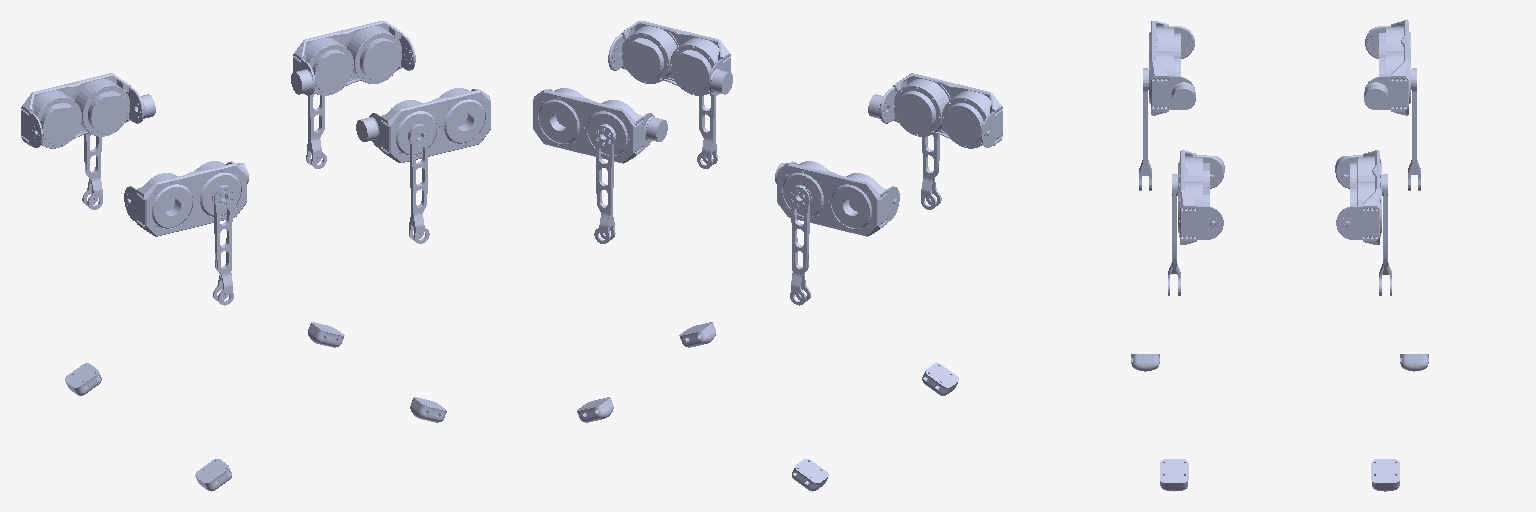
URDF robot description (olympus_description):
<?xml version="1.0" ?>
<robot
  name="olympus_description">


  <link
    name="Body">
    <inertial>
      <origin
        xyz="-0.0093903 0.00018696 0.011109"
        rpy="0 0 0" />
      <mass
        value="5.679" />
      <inertia
        ixx="0.05428615"
        ixy="-0.00110179"
        ixz="-0.0017034"
        iyy="0.15070598"
        iyz="0.00013585"
        izz="0.19574722" />
    </inertial>
    <visual>
      <origin
        xyz="0 0 0"
        rpy="0 0 0" />
      <geometry>
        <mesh
          filename="package://olympus_description/urdf/meshes/Body.dae" />
      </geometry>
      <material
        name="">
        <color
          rgba="0.79216 0.81961 0.93333 1" />
      </material>
    </visual>
    <collision>
      <origin
        xyz="0 0 0"
        rpy="0 0 0" />
      <geometry>
        <mesh
          filename="package://olympus_description/urdf/meshes/Body.dae" />
      </geometry>
    </collision>
  </link>
  



  
  

  
  <link
    name="FrontLeft_motorHousing">
    <inertial>
      <origin
        xyz="0.092829 0.02913 0.00023828"
        rpy="0 0 0" />
      <mass
        value="1.437" />
      <inertia
        ixx="0.00232895"
        ixy="0.00418147"
        ixz="3.194E-05"
        iyy="0.01861991"
        iyz="4.4E-06"
        izz="0.01948836" />
    </inertial>
    <visual>
      <origin
        xyz="0 0 0"
        rpy="0 0 0" />
      <geometry>
        <mesh
          filename="package://olympus_description/urdf/meshes/FrontLeft_motorHousing.dae" />
      </geometry>
      <material
        name="">
        <color
          rgba="0.79216 0.81961 0.93333 1" />
      </material>
    </visual>
    <collision>
      <origin
        xyz="0 0 0"
        rpy="0 0 0" />
      <geometry>
        <mesh
          filename="package://olympus_description/urdf/meshes/FrontLeft_motorHousing.dae" />
      </geometry>
    </collision>
  </link>
  <joint
    name="FrontLeft_motorHousing_hipAduction_motor"
    type="revolute">
    <origin
      xyz="0.143300000000002 0.104999999999997 0"
      rpy="0 0 0" />
    <parent
      link="Body" />
    <child
      link="FrontLeft_motorHousing" />
    <axis
      xyz="-1 0 0" />
    <limit
      lower="-1.57"
      upper="1.57"
      effort="0"
      velocity="0" />
  </joint>
  <link
    name="FrontLeft_hip_inner">
    <inertial>
      <origin
        xyz="-0.00087111 -0.0026375 -0.059532"
        rpy="0 0 0" />
      <mass
        value="0.081" />
      <inertia
        ixx="0.00080743"
        ixy="-7E-08"
        ixz="1.1E-05"
        iyy="0.00081318"
        iyz="-4.71E-06"
        izz="3.7587E-06" />
    </inertial>
    <visual>
      <origin
        xyz="0 0 0"
        rpy="0 0 0" />
      <geometry>
        <mesh
          filename="package://olympus_description/urdf/meshes/FrontLeft_hip_inner.dae" />
      </geometry>
      <material
        name="">
        <color
          rgba="0.79216 0.81961 0.93333 1" />
      </material>
    </visual>
    <collision>
      <origin
        xyz="0 0 0"
        rpy="0 0 0" />
      <geometry>
        <mesh
          filename="package://olympus_description/urdf/meshes/FrontLeft_hip_inner.dae" />
      </geometry>
    </collision>
  </link>
  <joint
    name="FrontLeft_hip_inner_motor"
    type="revolute">
    <origin
      xyz="0.051699999999999 0.0594499999999993 -1.1338370204463E-05"
      rpy="0 0 0" />
    <parent
      link="FrontLeft_motorHousing" />
    <child
      link="FrontLeft_hip_inner" />
    <axis
      xyz="0 1 0" />
    <limit
      lower="-1.57"
      upper="1.57"
      effort="0"
      velocity="0" />
  </joint>
  <link
    name="FrontLeft_shank_inner">
    <inertial>
      <origin
        xyz="-0.018257 -5.7848E-07 -0.18193"
        rpy="0 0 0" />
      <mass
        value="0.1993" />
      <inertia
        ixx="0.00799515"
        ixy="-1.3E-07"
        ixz="0.00072855"
        iyy="0.00807089"
        iyz="-1.55E-06"
        izz="9.64E-05" />
    </inertial>
    <visual>
      <origin
        xyz="0 0 0"
        rpy="0 0 0" />
      <geometry>
        <mesh
          filename="package://olympus_description/urdf/meshes/FrontLeft_shank_inner.dae" />
      </geometry>
      <material
        name="">
        <color
          rgba="0.79216 0.81961 0.93333 1" />
      </material>
    </visual>
    <collision>
      <origin
        xyz="0 0 0"
        rpy="0 0 0" />
      <geometry>
        <mesh
          filename="package://olympus_description/urdf/meshes/FrontLeft_shank_inner.dae" />
      </geometry>
    </collision>
  </link>
  <joint
    name="FrontLeft_shank_inner_knee"
    type="revolute">
    <origin
      xyz="0 0.000750000000007855 -0.175000000000014"
      rpy="0 -0.156107447167547 0" />
    <parent
      link="FrontLeft_hip_inner" />
    <child
      link="FrontLeft_shank_inner" />
    <axis
      xyz="0 1 0" />
    <limit
      lower="-1.57"
      upper="1.57"
      effort="0"
      velocity="0" />
  </joint>
  <link
    name="FrontLeft_paw">
    <inertial>
      <origin
        xyz="-0.00016141 -2.5484E-07 0.0013973"
        rpy="0 0 0" />
      <mass
        value="0.02" />
      <inertia
        ixx="3.73E-06"
        ixy="-2.6396E-10"
        ixz="-2E-08"
        iyy="4.78E-06"
        iyz="-7.8092E-11"
        izz="6.37E-06" />
    </inertial>
    <visual>
      <origin
        xyz="0 0 0"
        rpy="0 0 0" />
      <geometry>
        <mesh
          filename="package://olympus_description/urdf/meshes/FrontLeft_paw.dae" />
      </geometry>
      <material
        name="">
        <color
          rgba="0.79216 0.81961 0.93333 1" />
      </material>
    </visual>
    <collision>
      <origin
        xyz="0 0 0"
        rpy="0 0 0" />
      <geometry>
        <mesh
          filename="package://olympus_description/urdf/meshes/FrontLeft_paw.dae" />
      </geometry>
    </collision>
  </link>
  <joint
    name="FrontLeft_paw_joint"
    type="fixed">
    <origin
      xyz="-0.034316172849209 0 -0.318287120023731"
      rpy="0 -0.587745839939292 3.14159265358979" />
    <parent
      link="FrontLeft_shank_inner" />
    <child
      link="FrontLeft_paw" />
    <axis
      xyz="0 0 0" />
  </joint>

  <link
    name="FrontRight_motorHousing">
    <inertial>
      <origin
        xyz="0.092829 -0.02913 -0.00023828"
        rpy="0 0 0" />
      <mass
        value="1.4374" />
      <inertia
        ixx="0.00232895"
        ixy="-0.00418147"
        ixz="-3.194E-05"
        iyy="0.01861991"
        iyz="4.4E-06"
        izz="0.01948836" />
    </inertial>
    <visual>
      <origin
        xyz="0 0 0"
        rpy="0 0 0" />
      <geometry>
        <mesh
          filename="package://olympus_description/urdf/meshes/FrontRight_motorHousing.dae" />
      </geometry>
      <material
        name="">
        <color
          rgba="0.79216 0.81961 0.93333 1" />
      </material>
    </visual>
    <collision>
      <origin
        xyz="0 0 0"
        rpy="0 0 0" />
      <geometry>
        <mesh
          filename="package://olympus_description/urdf/meshes/FrontRight_motorHousing.dae" />
      </geometry>
    </collision>
  </link>
  <joint
    name="FrontRight_motorHousing_hipAduction_motor"
    type="revolute">
    <origin
      xyz="0.143300000000001 -0.104999999999999 0"
      rpy="0 0 0" />
    <parent
      link="Body" />
    <child
      link="FrontRight_motorHousing" />
    <axis
      xyz="-1 0 0" />
    <limit
      lower="-1.57"
      upper="1.57"
      effort="0"
      velocity="0" />
  </joint>
  <link
    name="FrontRight_hip_inner">
    <inertial>
      <origin
        xyz="-0.00087097 0.0026333 -0.059284"
        rpy="0 0 0" />
      <mass
        value="0.081" />
      <inertia
        ixx="0.00080451"
        ixy="7E-08"
        ixz="1.098E-05"
        iyy="0.00081035"
        iyz="4.68E-06"
        izz="8.51E-06" />
    </inertial>
    <visual>
      <origin
        xyz="0 0 0"
        rpy="0 0 0" />
      <geometry>
        <mesh
          filename="package://olympus_description/urdf/meshes/FrontRight_hip_inner.dae" />
      </geometry>
      <material
        name="">
        <color
          rgba="0.79216 0.81961 0.93333 1" />
      </material>
    </visual>
    <collision>
      <origin
        xyz="0 0 0"
        rpy="0 0 0" />
      <geometry>
        <mesh
          filename="package://olympus_description/urdf/meshes/FrontRight_hip_inner.dae" />
      </geometry>
    </collision>
  </link>
  <joint
    name="FrontRight_hip_inner_motor"
    type="revolute">
    <origin
      xyz="0.0517000000000003 -0.0594500000000019 1.13383701956029E-05"
      rpy="0 0 0" />
    <parent
      link="FrontRight_motorHousing" />
    <child
      link="FrontRight_hip_inner" />
    <axis
      xyz="0 1 0" />
    <limit
      lower="-1.57"
      upper="1.57"
      effort="0"
      velocity="0" />
  </joint>
  <link
    name="FrontRight_shank_inner">
    <inertial>
      <origin
        xyz="-0.018257 -5.8199E-07 -0.18193"
        rpy="0 0 0" />
      <mass
        value="0.1992" />
      <inertia
        ixx="0.00799515"
        ixy="-1.3E-07"
        ixz="0.00072855"
        iyy="0.00807089"
        iyz="-1.55E-06"
        izz="9.64E-05" />
    </inertial>
    <visual>
      <origin
        xyz="0 0 0"
        rpy="0 0 0" />
      <geometry>
        <mesh
          filename="package://olympus_description/urdf/meshes/FrontRight_shank_inner.dae" />
      </geometry>
      <material
        name="">
        <color
          rgba="0.79216 0.81961 0.93333 1" />
      </material>
    </visual>
    <collision>
      <origin
        xyz="0 0 0"
        rpy="0 0 0" />
      <geometry>
        <mesh
          filename="package://olympus_description/urdf/meshes/FrontRight_shank_inner.dae" />
      </geometry>
    </collision>
  </link>
  <joint
    name="FrontRight_shank_inner_knee"
    type="revolute">
    <origin
      xyz="0 -0.000749999999992201 -0.174999999999991"
      rpy="0 -0.156107447167536 0" />
    <parent
      link="FrontRight_hip_inner" />
    <child
      link="FrontRight_shank_inner" />
    <axis
      xyz="0 1 0" />
    <limit
      lower="-1.57"
      upper="1.57"
      effort="0"
      velocity="0" />
  </joint>
  <link
    name="FrontRight_paw">
    <inertial>
      <origin
        xyz="-0.00016141 -2.5484E-07 0.0013973"
        rpy="0 0 0" />
      <mass
        value="0.02" />
      <inertia
        ixx="3.73E-06"
        ixy="0"
        ixz="-2E-08"
        iyy="4.78E-06"
        iyz="0"
        izz="6.37E-06" />
    </inertial>
    <visual>
      <origin
        xyz="0 0 0"
        rpy="0 0 0" />
      <geometry>
        <mesh
          filename="package://olympus_description/urdf/meshes/FrontRight_paw.dae" />
      </geometry>
      <material
        name="">
        <color
          rgba="0.79216 0.81961 0.93333 1" />
      </material>
    </visual>
    <collision>
      <origin
        xyz="0 0 0"
        rpy="0 0 0" />
      <geometry>
        <mesh
          filename="package://olympus_description/urdf/meshes/FrontRight_paw.dae" />
      </geometry>
    </collision>
  </link>
  <joint
    name="FrontRight_paw_joint"
    type="fixed">
    <origin
      xyz="-0.0343161728492139 0 -0.318287120023735"
      rpy="0 -0.587745839939292 3.14159265358979" />
    <parent
      link="FrontRight_shank_inner" />
    <child
      link="FrontRight_paw" />
    <axis
      xyz="0 0 0" />
  </joint>
  <link
    name="BackLeft_motorHousing">
    <inertial>
      <origin
        xyz="-0.092829 0.02913 -0.00023828"
        rpy="0 0 0" />
      <mass
        value="1.437" />
      <inertia
        ixx="0.00232895"
        ixy="-0.00418147"
        ixz="3.194E-05"
        iyy="0.01861991"
        iyz="-4.4E-06"
        izz="0.01948836" />
    </inertial>
    <visual>
      <origin
        xyz="0 0 0"
        rpy="0 0 0" />
      <geometry>
        <mesh
          filename="package://olympus_description/urdf/meshes/BackLeft_motorHousing.dae" />
      </geometry>
      <material
        name="">
        <color
          rgba="0.79216 0.81961 0.93333 1" />
      </material>
    </visual>
    <collision>
      <origin
        xyz="0 0 0"
        rpy="0 0 0" />
      <geometry>
        <mesh
          filename="package://olympus_description/urdf/meshes/BackLeft_motorHousing.dae" />
      </geometry>
    </collision>
  </link>
  <joint
    name="BackLeft_motorHousing_hipAduction_motor"
    type="revolute">
    <origin
      xyz="-0.143300000000002 0.149999999999995 0"
      rpy="0 0 0" />
    <parent
      link="Body" />
    <child
      link="BackLeft_motorHousing" />
    <axis
      xyz="1 0 0" />
    <limit
      lower="-1.57"
      upper="1.57"
      effort="0"
      velocity="0" />
  </joint>
  <link
    name="BackLeft_hip_inner">
    <inertial>
      <origin
        xyz="0.00087097 -0.0026333 -0.059284"
        rpy="0 0 0" />
      <mass
        value="0.081" />
      <inertia
        ixx="0.00080451"
        ixy="7E-08"
        ixz="-1.097E-05"
        iyy="0.00081035"
        iyz="-4.68E-06"
        izz="8.51E-06" />
    </inertial>
    <visual>
      <origin
        xyz="0 0 0"
        rpy="0 0 0" />
      <geometry>
        <mesh
          filename="package://olympus_description/urdf/meshes/BackLeft_hip_inner.dae" />
      </geometry>
      <material
        name="">
        <color
          rgba="0.79216 0.81961 0.93333 1" />
      </material>
    </visual>
    <collision>
      <origin
        xyz="0 0 0"
        rpy="0 0 0" />
      <geometry>
        <mesh
          filename="package://olympus_description/urdf/meshes/BackLeft_hip_inner.dae" />
      </geometry>
    </collision>
  </link>
  <joint
    name="BackLeft_hip_inner_motor"
    type="revolute">
    <origin
      xyz="-0.0516999999999978 0.0594500000000004 1.13383700547322E-05"
      rpy="0 0 0" />
    <parent
      link="BackLeft_motorHousing" />
    <child
      link="BackLeft_hip_inner" />
    <axis
      xyz="0 -1 0" />
    <limit
      lower="-1.57"
      upper="1.57"
      effort="0"
      velocity="0" />
  </joint>
  <link
    name="BackLeft_shank_inner">
    <inertial>
      <origin
        xyz="0.018257 5.8939E-07 -0.18193"
        rpy="0 0 0" />
      <mass
        value="0.1993" />
      <inertia
        ixx="0.00799515"
        ixy="-1.3E-07"
        ixz="-0.00072855"
        iyy="0.00807089"
        iyz="1.55E-06"
        izz="9.64E-05" />
    </inertial>
    <visual>
      <origin
        xyz="0 0 0"
        rpy="0 0 0" />
      <geometry>
        <mesh
          filename="package://olympus_description/urdf/meshes/BackLeft_shank_inner.dae" />
      </geometry>
      <material
        name="">
        <color
          rgba="0.79216 0.81961 0.93333 1" />
      </material>
    </visual>
    <collision>
      <origin
        xyz="0 0 0"
        rpy="0 0 0" />
      <geometry>
        <mesh
          filename="package://olympus_description/urdf/meshes/BackLeft_shank_inner.dae" />
      </geometry>
    </collision>
  </link>
  <joint
    name="BackLeft_shank_inner_knee"
    type="revolute">
    <origin
      xyz="0 0.000749999999984485 -0.174999999999858"
      rpy="0 0.156107447167218 0" />
    <parent
      link="BackLeft_hip_inner" />
    <child
      link="BackLeft_shank_inner" />
    <axis
      xyz="0 1 0" />
    <limit
      lower="-1.57"
      upper="1.57"
      effort="0"
      velocity="0" />
  </joint>
  <link
    name="BackLeft_paw">
    <inertial>
      <origin
        xyz="0.00016141 2.5484E-07 0.0013973"
        rpy="0 0 0" />
      <mass
        value="0.02" />
      <inertia
        ixx="1.236E-05"
        ixy="0"
        ixz="5E-08"
        iyy="1.587E-05"
        iyz="0"
        izz="2.129E-05" />
    </inertial>
    <visual>
      <origin
        xyz="0 0 0"
        rpy="0 0 0" />
      <geometry>
        <mesh
          filename="package://olympus_description/urdf/meshes/BackLeft_paw.dae" />
      </geometry>
      <material
        name="">
        <color
          rgba="0.79216 0.81961 0.93333 1" />
      </material>
    </visual>
    <collision>
      <origin
        xyz="0 0 0"
        rpy="0 0 0" />
      <geometry>
        <mesh
          filename="package://olympus_description/urdf/meshes/BackLeft_paw.dae" />
      </geometry>
    </collision>
  </link>
  <joint
    name="BackLeft_paw_joint"
    type="fixed">
    <origin
      xyz="0.0343161728493504 0 -0.318287120023714"
      rpy="0 0.587745839939292 -3.14159265358976" />
    <parent
      link="BackLeft_shank_inner" />
    <child
      link="BackLeft_paw" />
    <axis
      xyz="0 0 0" />
  </joint>
  <link
    name="BackRight_motorHousing">
    <inertial>
      <origin
        xyz="-0.092829 -0.02913 0.00023828"
        rpy="0 0 0" />
      <mass
        value="1.437" />
      <inertia
        ixx="0.00232895"
        ixy="0.00418147"
        ixz="-3.194E-05"
        iyy="0.01861991"
        iyz="-4.4E-06"
        izz="0.01948836" />
    </inertial>
    <visual>
      <origin
        xyz="0 0 0"
        rpy="0 0 0" />
      <geometry>
        <mesh
          filename="package://olympus_description/urdf/meshes/BackRight_motorHousing.dae" />
      </geometry>
      <material
        name="">
        <color
          rgba="0.79216 0.81961 0.93333 1" />
      </material>
    </visual>
    <collision>
      <origin
        xyz="0 0 0"
        rpy="0 0 0" />
      <geometry>
        <mesh
          filename="package://olympus_description/urdf/meshes/BackRight_motorHousing.dae" />
      </geometry>
    </collision>
  </link>
  <joint
    name="BackRight_motorHousing_hipAduction_motor12"
    type="revolute">
    <origin
      xyz="-0.1433 -0.150000000000002 0"
      rpy="0 0 0" />
    <parent
      link="Body" />
    <child
      link="BackRight_motorHousing" />
    <axis
      xyz="1 0 0" />
    <limit
      lower="-1.57"
      upper="1.57"
      effort="0"
      velocity="0" />
  </joint>
  <link
    name="BackRight_hip_inner">
    <inertial>
      <origin
        xyz="0.00087111 0.0026375 -0.059532"
        rpy="0 0 0" />
      <mass
        value="0.0805" />
      <inertia
        ixx="0.00080743"
        ixy="-7E-08"
        ixz="-1.1E-05"
        iyy="0.00081318"
        iyz="4.71E-06"
        izz="8.42E-06" />
    </inertial>
    <visual>
      <origin
        xyz="0 0 0"
        rpy="0 0 0" />
      <geometry>
        <mesh
          filename="package://olympus_description/urdf/meshes/BackRight_hip_inner.dae" />
      </geometry>
      <material
        name="">
        <color
          rgba="0.79216 0.81961 0.93333 1" />
      </material>
    </visual>
    <collision>
      <origin
        xyz="0 0 0"
        rpy="0 0 0" />
      <geometry>
        <mesh
          filename="package://olympus_description/urdf/meshes/BackRight_hip_inner.dae" />
      </geometry>
    </collision>
  </link>
  <joint
    name="BackRight_hip_inner_motor11"
    type="revolute">
    <origin
      xyz="-0.0517000000000002 -0.0594500000000022 -1.1338370431546E-05"
      rpy="0 0 0" />
    <parent
      link="BackRight_motorHousing" />
    <child
      link="BackRight_hip_inner" />
    <axis
      xyz="0 1 0" />
    <limit
      lower="-1.57"
      upper="1.57"
      effort="0"
      velocity="0" />
  </joint>
  <link
    name="BackRight_shank_inner">
    <inertial>
      <origin
        xyz="0.018257 5.8084E-07 -0.18193"
        rpy="0 0 0" />
      <mass
        value="0.1993" />
      <inertia
        ixx="0.00799515"
        ixy="-1.3E-07"
        ixz="-0.00072855"
        iyy="0.00807089"
        iyz="1.55E-06"
        izz="9.64E-05" />
    </inertial>
    <visual>
      <origin
        xyz="0 0 0"
        rpy="0 0 0" />
      <geometry>
        <mesh
          filename="package://olympus_description/urdf/meshes/BackRight_shank_inner.dae" />
      </geometry>
      <material
        name="">
        <color
          rgba="0.79216 0.81961 0.93333 1" />
      </material>
    </visual>
    <collision>
      <origin
        xyz="0 0 0"
        rpy="0 0 0" />
      <geometry>
        <mesh
          filename="package://olympus_description/urdf/meshes/BackRight_shank_inner.dae" />
      </geometry>
    </collision>
  </link>
  <joint
    name="BackRight_shank_inner_knee"
    type="revolute">
    <origin
      xyz="0 -0.000749999999271611 -0.174999999999955"
      rpy="0 0.156107447164923 0" />
    <parent
      link="BackRight_hip_inner" />
    <child
      link="BackRight_shank_inner" />
    <axis
      xyz="0 1 0" />
    <limit
      lower="-1.57"
      upper="1.57"
      effort="0"
      velocity="0" />
  </joint>
  <link
    name="BackRight_paw">
    <inertial>
      <origin
        xyz="0.00016141 2.5484E-07 0.0013973"
        rpy="0 0 0" />
      <mass
        value="0.02" />
      <inertia
        ixx="1.245E-05"
        ixy="0"
        ixz="6E-08"
        iyy="1.597E-05"
        iyz="0"
        izz="2.129E-05" />
    </inertial>
    <visual>
      <origin
        xyz="0 0 0"
        rpy="0 0 0" />
      <geometry>
        <mesh
          filename="package://olympus_description/urdf/meshes/BackRight_paw.dae" />
      </geometry>
      <material
        name="">
        <color
          rgba="0.79216 0.81961 0.93333 1" />
      </material>
    </visual>
    <collision>
      <origin
        xyz="0 0 0"
        rpy="0 0 0" />
      <geometry>
        <mesh
          filename="package://olympus_description/urdf/meshes/BackRight_paw.dae" />
      </geometry>
    </collision>
  </link>
  <joint
    name="BackRight_paw_joint"
    type="fixed">
    <origin
      xyz="0.0343161728494181 0 -0.318287120023818"
      rpy="0 0.58774583993929 3.14159265358979" />
    <parent
      link="BackRight_shank_inner" />
    <child
      link="BackRight_paw" />
    <axis
      xyz="0 0 0" />
  </joint>

</robot>

--- Facts derived from the render (not from the file) ---
The picture shows the robot from 3 angles, left to right: view 1: azimuth 30°, elevation 25°; view 2: azimuth 150°, elevation 25°; view 3: azimuth 270°, elevation 25°; orthographic projection.
Model olympus_description with 17 links and 16 joints (12 revolute, 4 fixed), rooted at Body, posed every joint at zero.
Links seen in each view (by area): view 1: BackLeft_motorHousing, FrontLeft_motorHousing, FrontRight_motorHousing, BackRight_motorHousing, BackRight_hip_inner, FrontRight_hip_inner, BackLeft_hip_inner, FrontLeft_hip_inner, BackLeft_paw, BackRight_paw, FrontRight_paw, FrontLeft_paw; view 2: BackRight_motorHousing, FrontRight_motorHousing, FrontLeft_motorHousing, BackLeft_motorHousing, BackLeft_hip_inner, FrontLeft_hip_inner, BackRight_hip_inner, FrontRight_hip_inner, BackRight_paw, BackLeft_paw, FrontLeft_paw, FrontRight_paw; view 3: BackLeft_motorHousing, BackRight_motorHousing, FrontLeft_motorHousing, FrontRight_motorHousing, FrontLeft_paw, FrontRight_paw, BackRight_hip_inner, BackLeft_hip_inner, FrontLeft_hip_inner, FrontRight_hip_inner.
Link boxes in pixels (x1,y1,x2,y2): BackLeft_motorHousing: [21, 73, 155, 148]; FrontLeft_motorHousing: [291, 21, 415, 95]; FrontRight_motorHousing: [356, 88, 490, 162]; BackRight_motorHousing: [124, 161, 248, 236]; BackRight_hip_inner: [212, 185, 234, 305]; FrontRight_hip_inner: [408, 124, 429, 243]; BackLeft_hip_inner: [82, 133, 102, 209]; FrontLeft_hip_inner: [306, 93, 326, 168]; BackLeft_paw: [65, 363, 101, 395]; BackRight_paw: [195, 459, 231, 491]; FrontRight_paw: [410, 397, 446, 422]; FrontLeft_paw: [308, 322, 344, 347]; BackRight_motorHousing: [868, 73, 1002, 148]; FrontRight_motorHousing: [608, 21, 732, 95]; FrontLeft_motorHousing: [533, 88, 667, 163]; BackLeft_motorHousing: [775, 161, 899, 236]; BackLeft_hip_inner: [789, 185, 811, 305]; FrontLeft_hip_inner: [594, 124, 615, 243]; BackRight_hip_inner: [921, 133, 941, 209]; FrontRight_hip_inner: [697, 93, 717, 168]; BackRight_paw: [922, 363, 958, 395]; BackLeft_paw: [792, 459, 828, 491]; FrontLeft_paw: [577, 397, 613, 422]; FrontRight_paw: [679, 322, 715, 347]; BackLeft_motorHousing: [1364, 20, 1410, 115]; BackRight_motorHousing: [1149, 21, 1195, 115]; FrontLeft_motorHousing: [1335, 150, 1381, 244]; FrontRight_motorHousing: [1178, 150, 1224, 244]; FrontLeft_paw: [1371, 459, 1399, 491]; FrontRight_paw: [1160, 459, 1188, 491]; BackRight_hip_inner: [1139, 68, 1151, 190]; BackLeft_hip_inner: [1408, 68, 1420, 190]; FrontLeft_hip_inner: [1379, 174, 1391, 295]; FrontRight_hip_inner: [1168, 174, 1180, 295].
Size in the robot's own frame: 0.677 by 0.4654 by 0.5616 metres.
Meshes: 17 distinct files referenced, 12 mesh visuals loaded (12 Collada DAE); not drawn: 5 (reference not matched to a file when rendering).